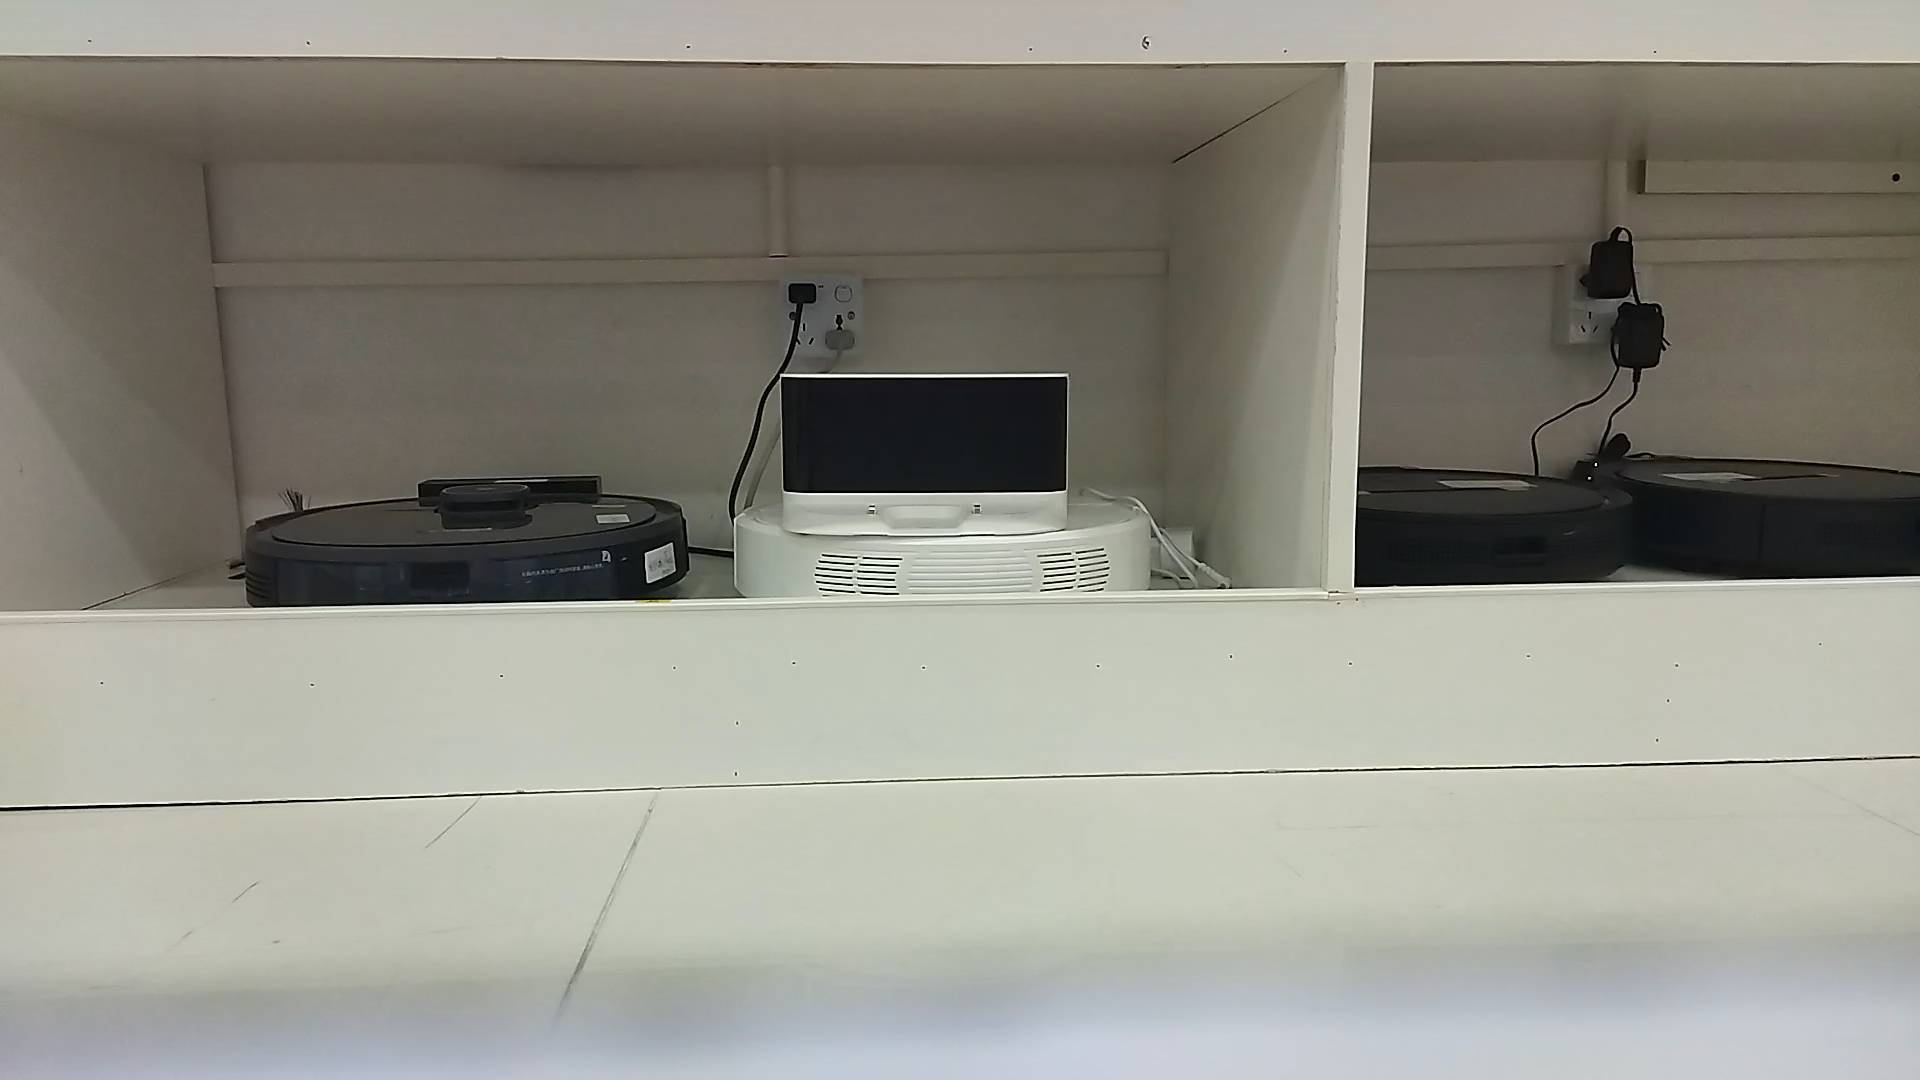recharge seat: (782, 371, 1071, 535)
